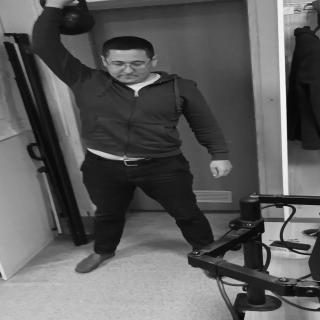kettlebell: (42, 2, 98, 36)
